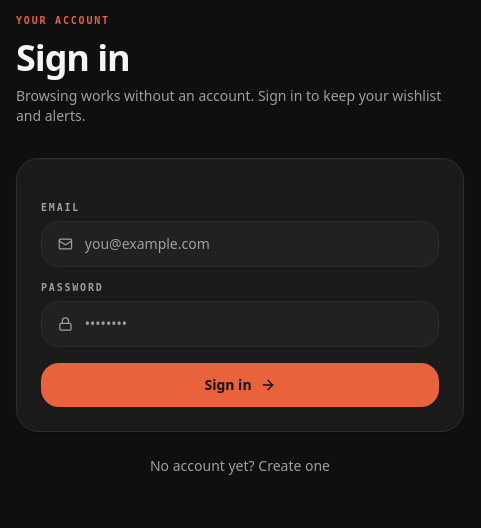
Test case: SignInPage › shows an invalid-credential error and re-enables submission
Later steps or results of the test are not shown.
Type "me@example.com" into the field labelled "Email".
click(253, 244); type("me@example.com")  # box [85,234,422,254]
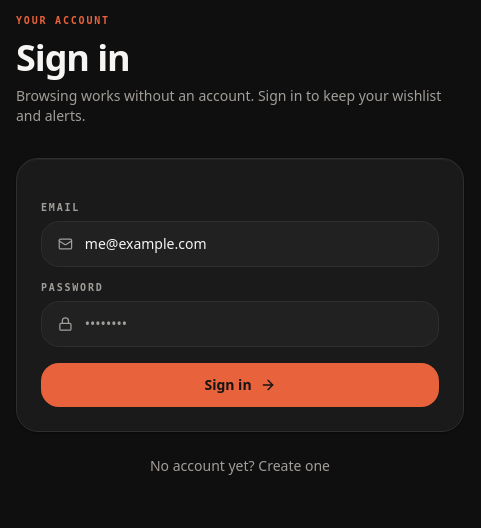
Type "password" into the password field labelled "Password".
click(253, 324); type("password")  # box [85,314,422,334]
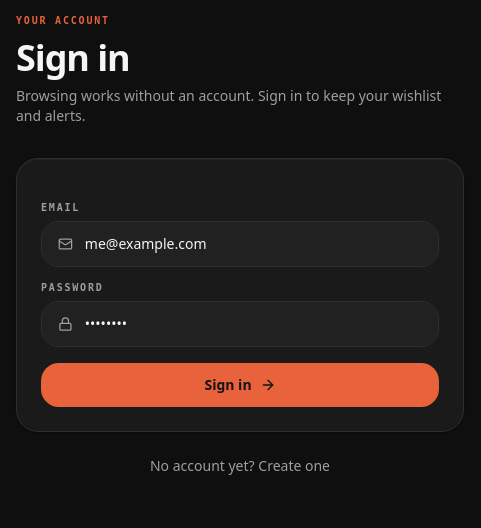
Click the button "Sign in".
click(240, 385)  # box [41,363,439,407]
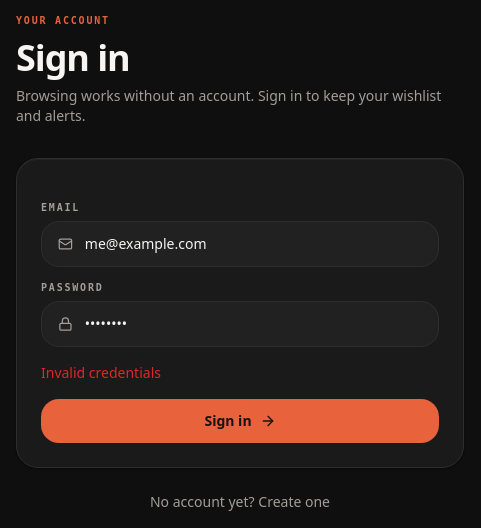
Check: the button "Sign in" is enabled, box [41,399,439,443]
Check: the message reads "Invalid credentials", box [41,363,161,382]
